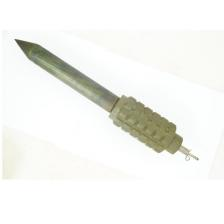POMZ2: (12, 33, 214, 170)
